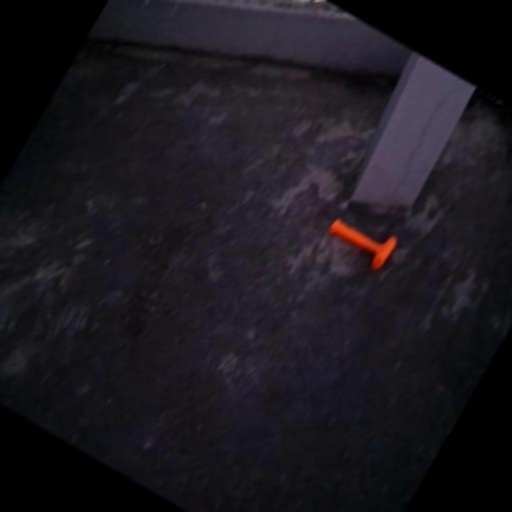mallet: (323, 206, 400, 273)
